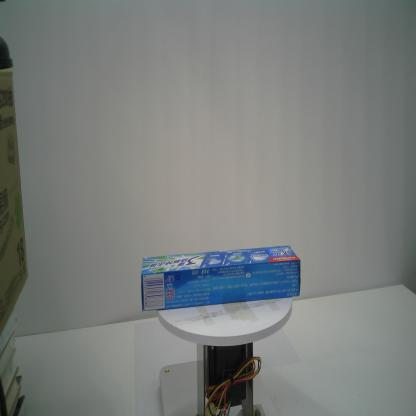Personal Hygiene: (139, 244, 302, 312)
